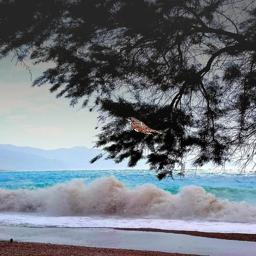Cuckoo: (124, 116, 167, 137)
